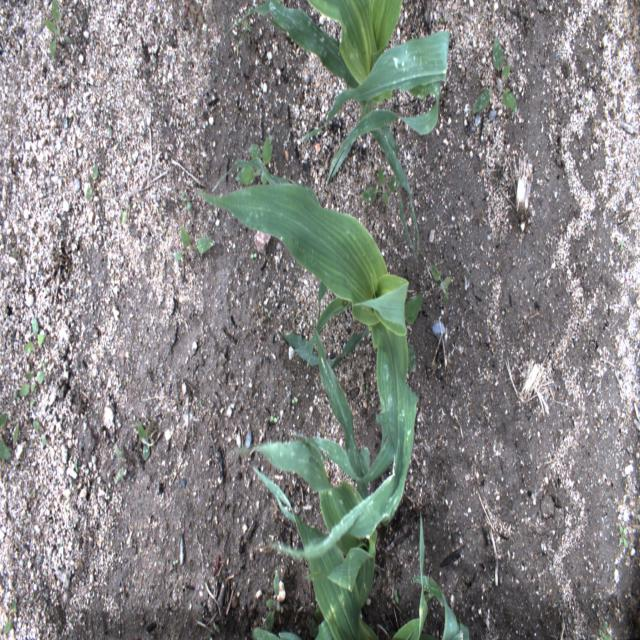crop: (200, 161, 424, 552), (225, 1, 451, 247), (252, 442, 379, 637), (392, 516, 470, 638), (249, 561, 302, 638)
weed: (471, 32, 521, 118), (39, 2, 73, 62), (358, 166, 395, 214), (175, 223, 219, 261), (0, 410, 26, 472), (134, 414, 162, 464), (23, 314, 52, 360), (109, 435, 135, 486), (428, 262, 453, 306), (18, 369, 46, 402), (2, 588, 21, 636), (82, 161, 101, 205), (188, 3, 208, 30), (12, 243, 29, 273), (285, 385, 306, 407), (616, 522, 630, 554), (34, 415, 47, 448), (122, 200, 133, 234), (266, 404, 282, 423), (596, 619, 612, 636)
